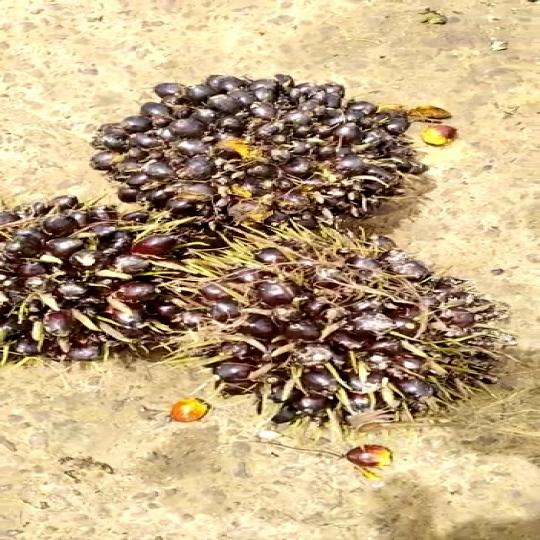mentah: (177, 231, 526, 431), (80, 58, 414, 235), (0, 200, 240, 366)
